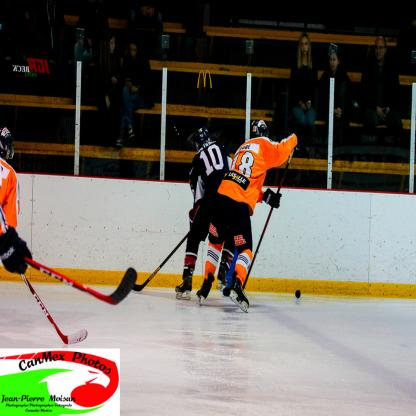Helmet: (0, 124, 15, 160), (248, 116, 267, 137), (194, 126, 212, 148)
